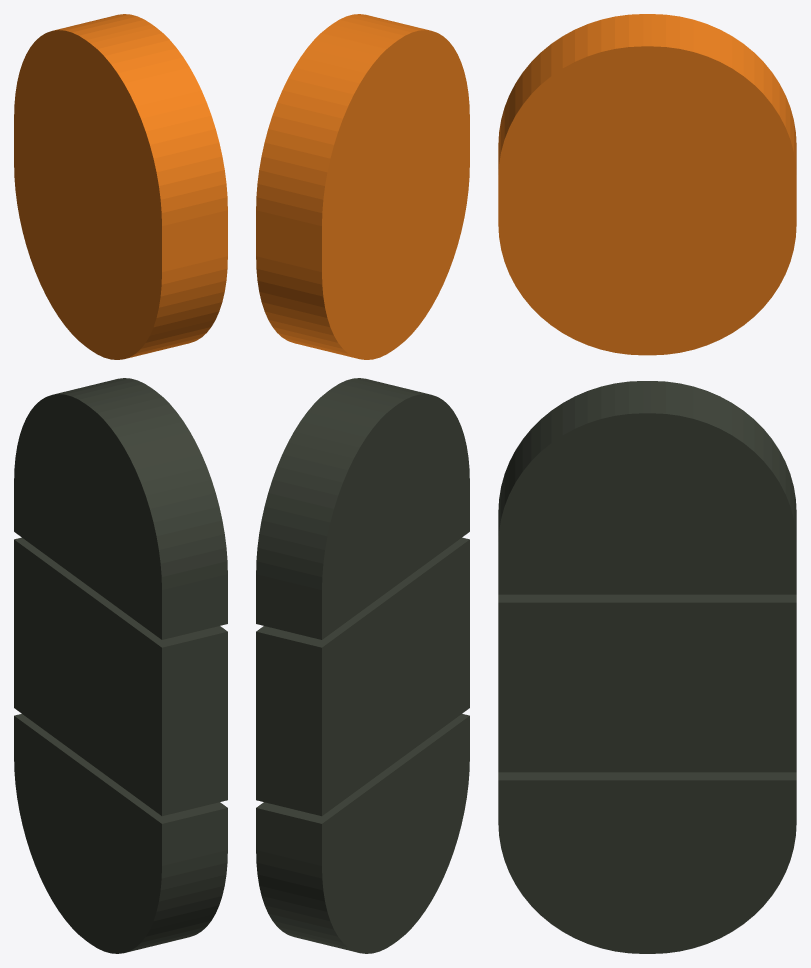
Rendered from controls_candidate_b.glb.
3 renders of one model, left to right at view 1: azimuth 30°, elevation 25°; view 2: azimuth 150°, elevation 25°; view 3: azimuth 270°, elevation 25°, orthographic.
Visible parts, largest first — view 1: control_capture, control_up, control_select, control_down; view 2: control_capture, control_up, control_select, control_down; view 3: control_capture, control_up, control_select, control_down.
Part boxes in pixels (x1,y1,x2,y2): control_capture: (14,14,227,359); control_up: (14,378,227,639); control_select: (14,537,227,816); control_down: (14,714,227,953); control_capture: (256,14,469,359); control_up: (256,378,469,639); control_select: (256,537,469,816); control_down: (256,714,469,953); control_capture: (498,14,796,355); control_up: (498,381,796,594); control_select: (498,594,796,772); control_down: (498,772,796,953).
Bounding box in the file's own units: 0.0018 × 0.0235 × 0.007.
